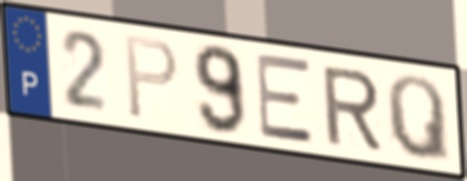2: (59, 28, 111, 115)
9: (189, 41, 249, 138)
E: (253, 52, 318, 147)
P: (122, 33, 181, 123)
Q: (383, 72, 454, 167)
R: (319, 64, 385, 152)
